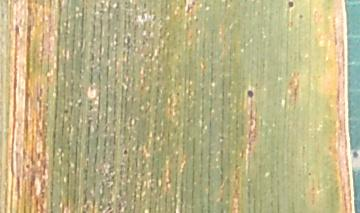tarspot: (245, 89, 255, 99), (120, 148, 130, 156), (286, 1, 295, 8), (62, 108, 70, 115), (297, 13, 305, 19)
